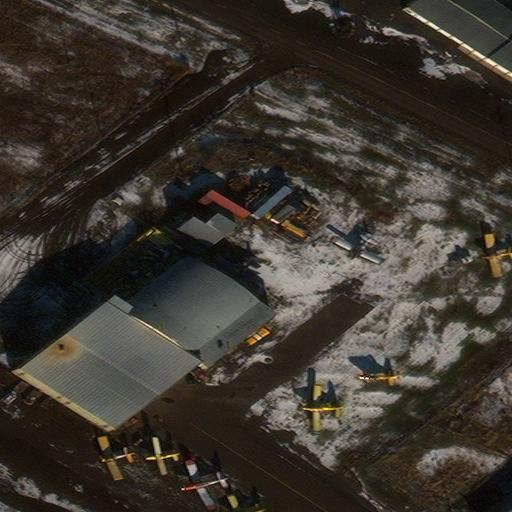Medium Civil Transport: (180, 461, 227, 510), (300, 382, 343, 434), (96, 437, 134, 480), (481, 233, 512, 277), (225, 496, 266, 512)
Small Civil Transport: (331, 236, 379, 264), (145, 437, 180, 475)
